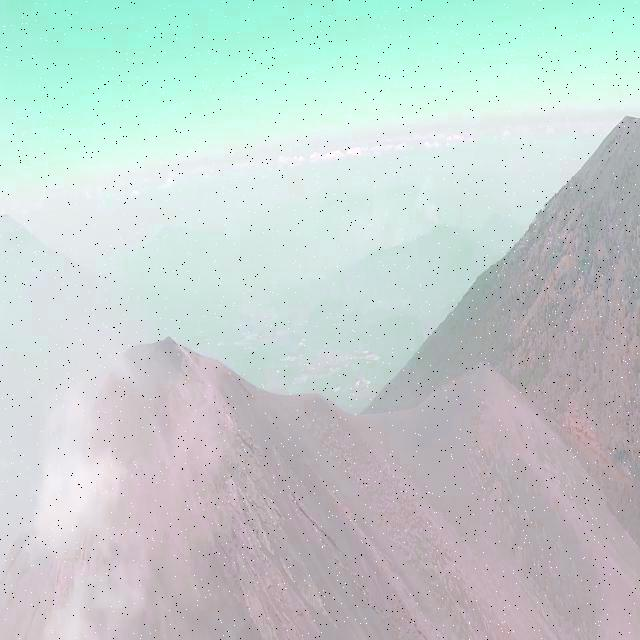Summit: (11, 316, 317, 562)
